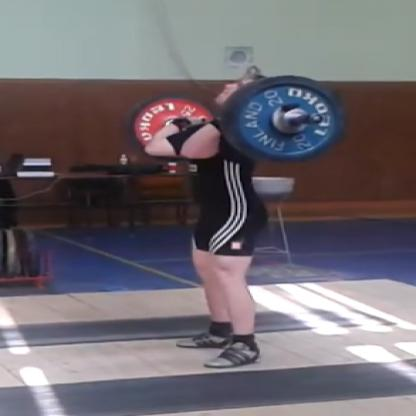Barbell: (210, 70, 350, 169)
